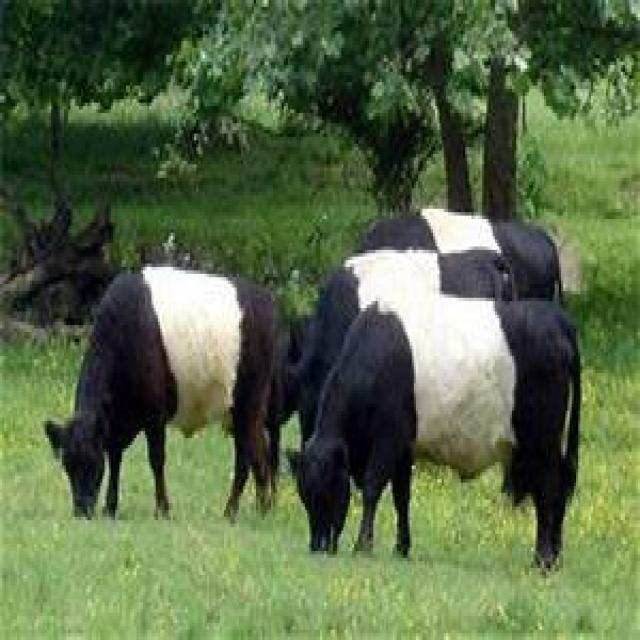cow: (294, 294, 582, 568), (55, 267, 294, 524), (311, 226, 559, 387)
